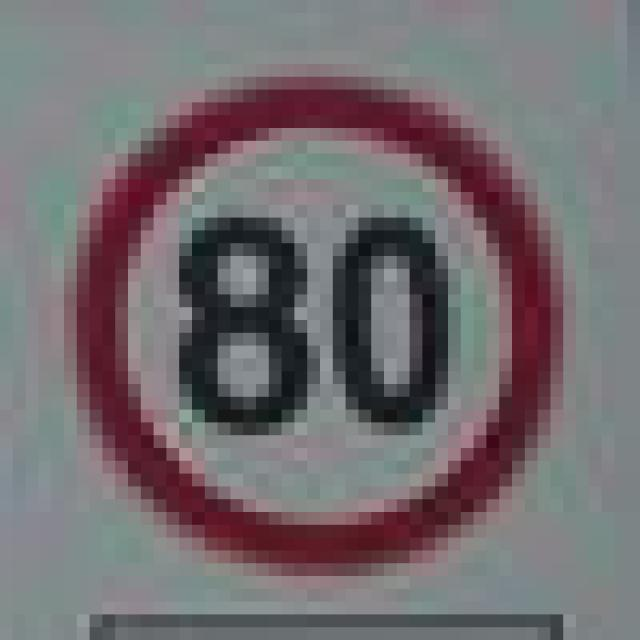SPEED_LIMIT_80: (64, 77, 550, 563)
